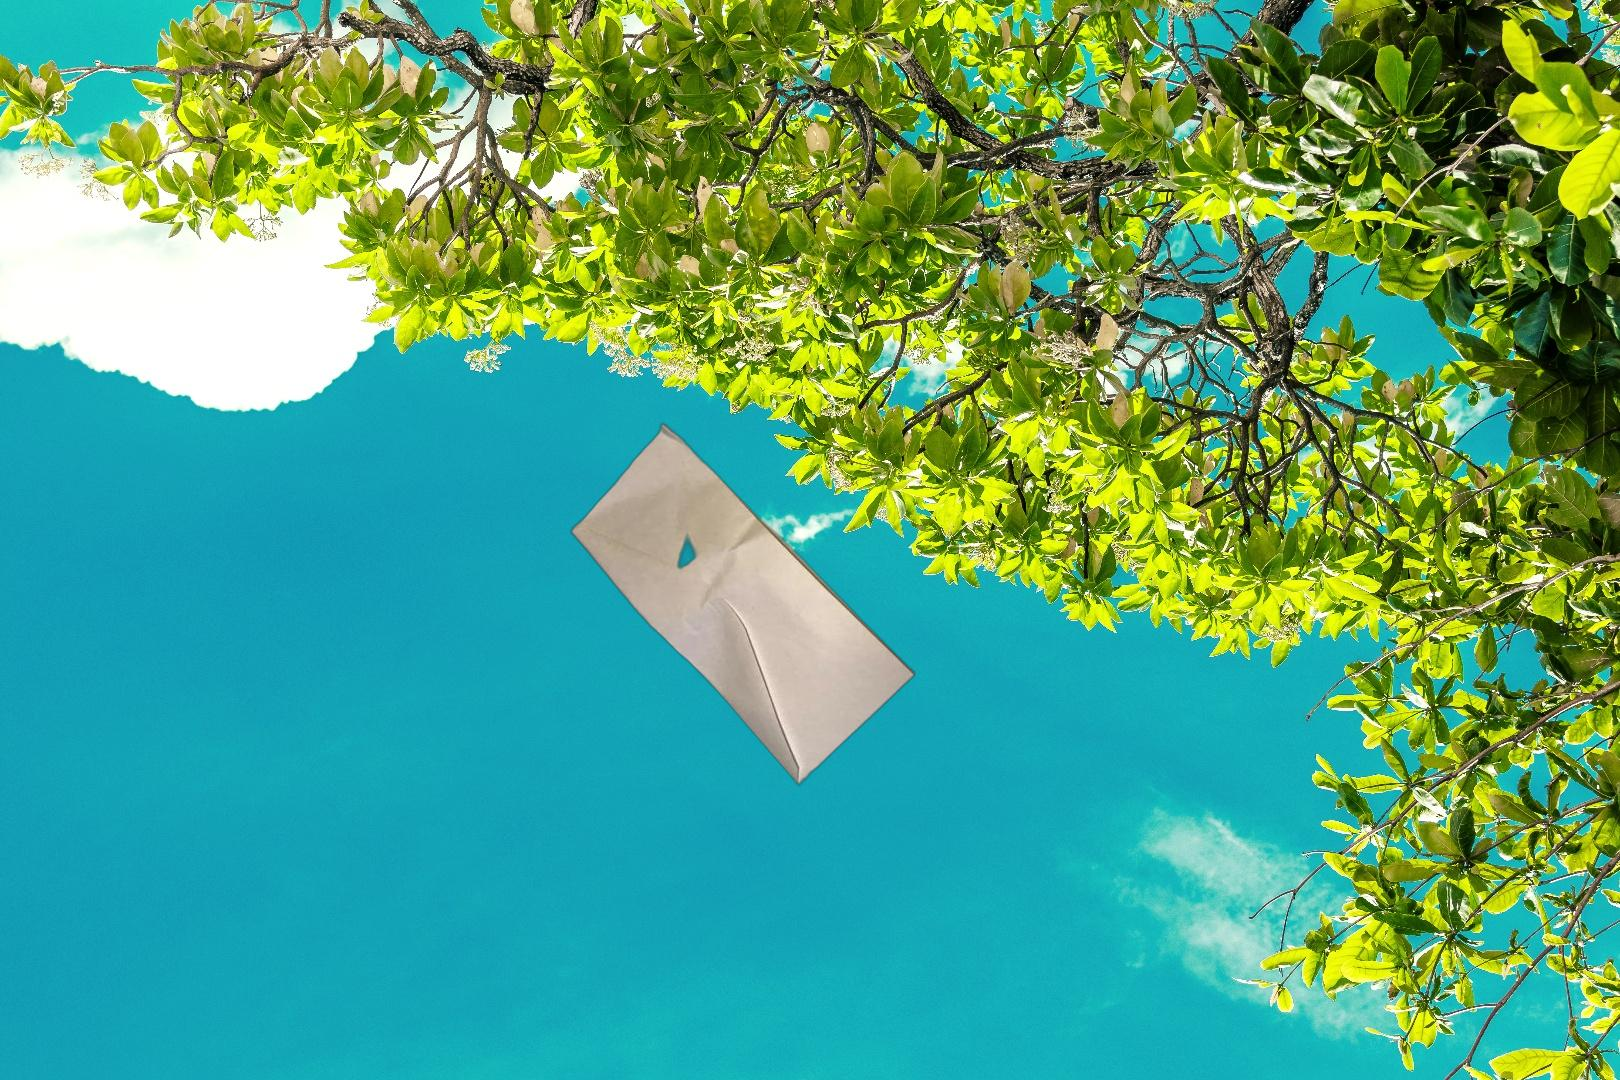paper: (567, 421, 920, 788)
